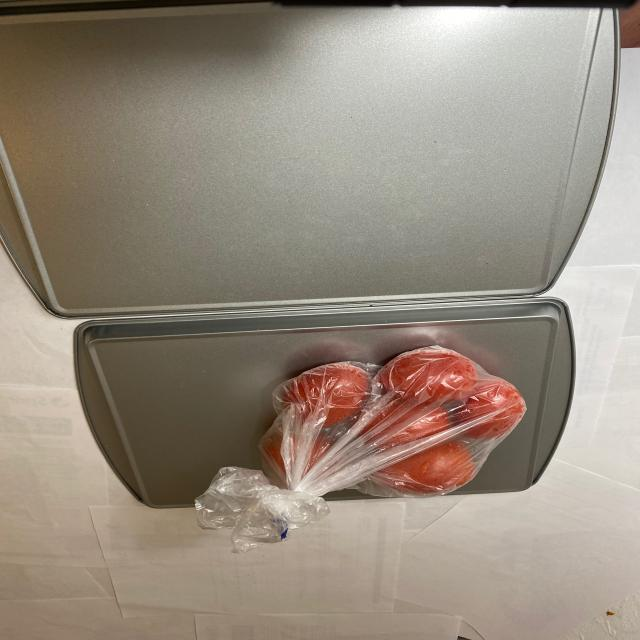tomato: (239, 345, 532, 516)
